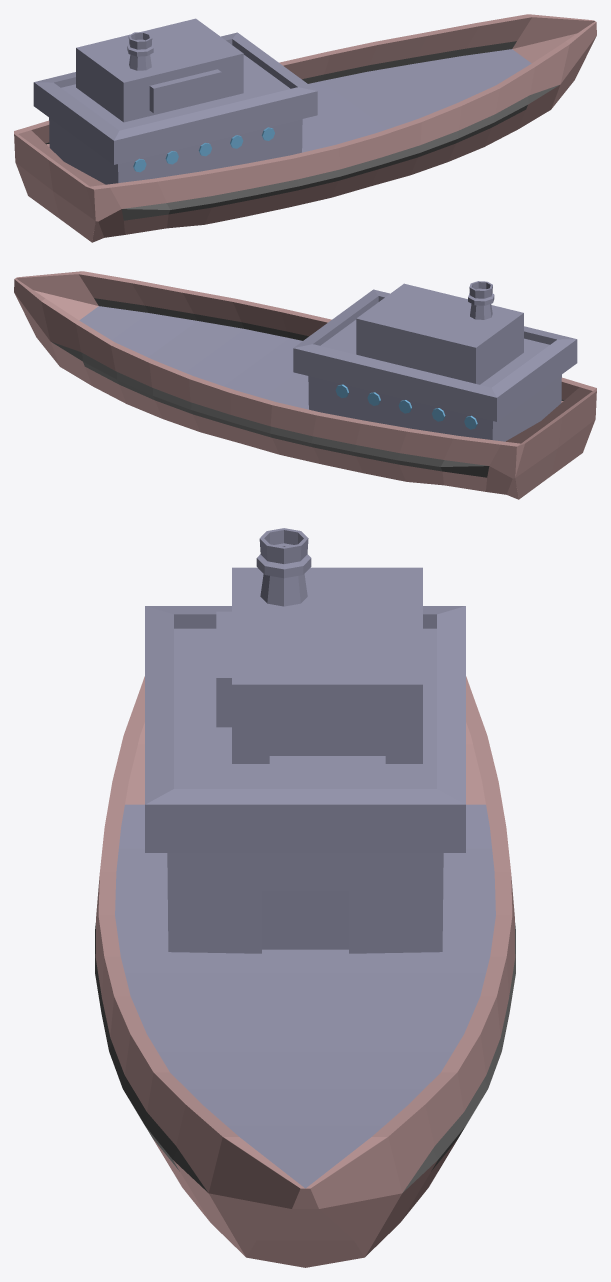
Rendered from ship.obj.
3 renders of one model, top to bottom at view 1: azimuth 30°, elevation 25°; view 2: azimuth 150°, elevation 25°; view 3: azimuth 270°, elevation 25°, orthographic. The views are drawn at different scales.
Visible parts, largest first — view 1: Boat_Cube; view 2: Boat_Cube; view 3: Boat_Cube.
Part boxes in pixels (left/top/right/bottom): Boat_Cube: left=14, top=14, right=596, bottom=242; Boat_Cube: left=14, top=271, right=596, bottom=499; Boat_Cube: left=95, top=528, right=515, bottom=1267.
Size of the model in its own units: 7.96 by 2.39 by 2.66.
